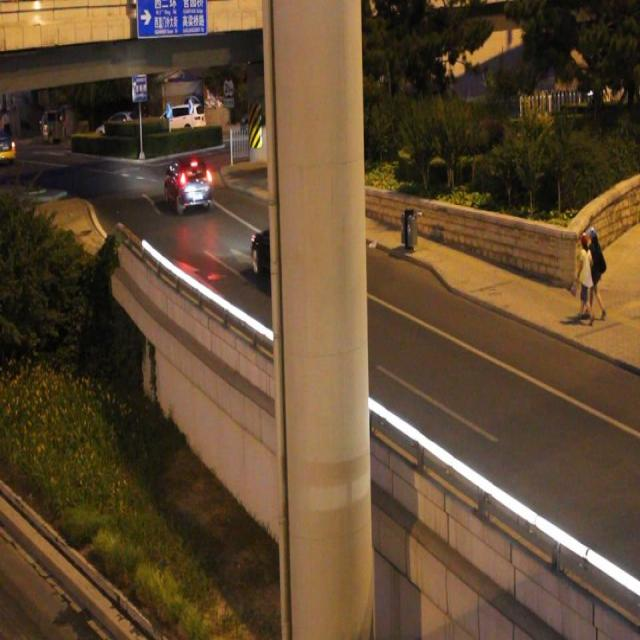car: (250, 212, 332, 296), (164, 155, 213, 214)
